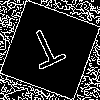T: (25, 25, 71, 79)
